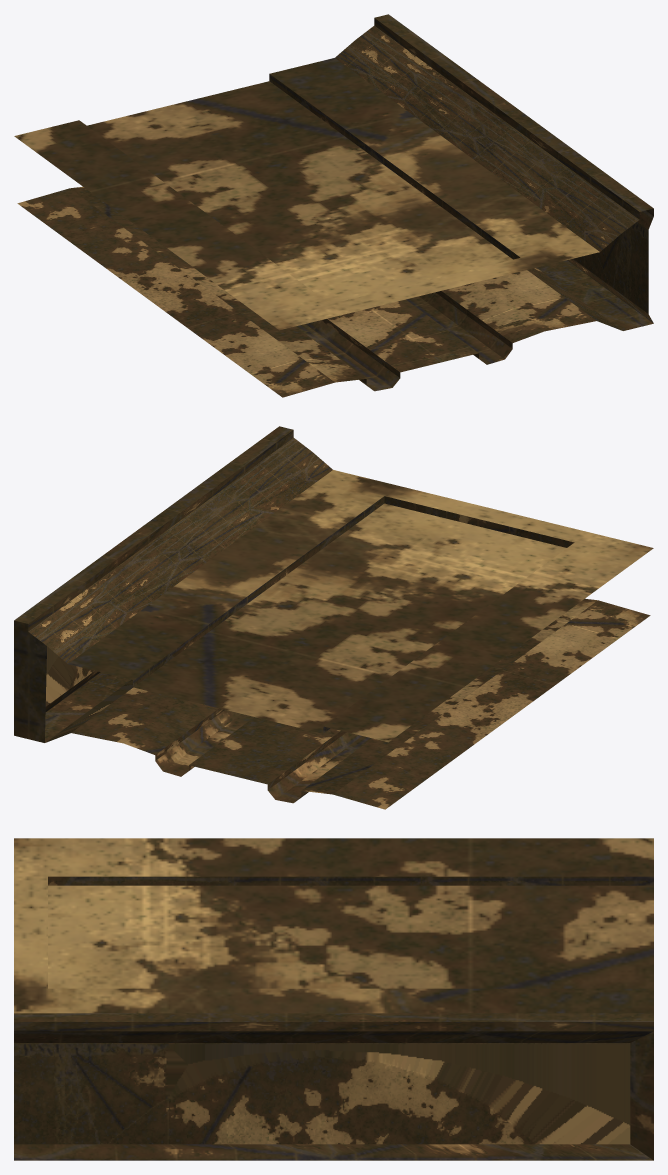
The model's file is platformPrefab-HalfNoBackTrimRight.fbx.
3 renders of one model, top to bottom at view 1: azimuth 30°, elevation 25°; view 2: azimuth 150°, elevation 25°; view 3: azimuth 270°, elevation 25°, orthographic. The views are drawn at different scales.
Visible parts, largest first — view 1: platformPrefabStraight; view 2: platformPrefabStraight; view 3: platformPrefabStraight.
Boxes of the visible parts, x1,y1,x2,y2 form: platformPrefabStraight: (14,14,653,397); platformPrefabStraight: (14,426,653,809); platformPrefabStraight: (14,838,653,1160).
Size of the model in its own units: 162 by 47.89 by 199.
